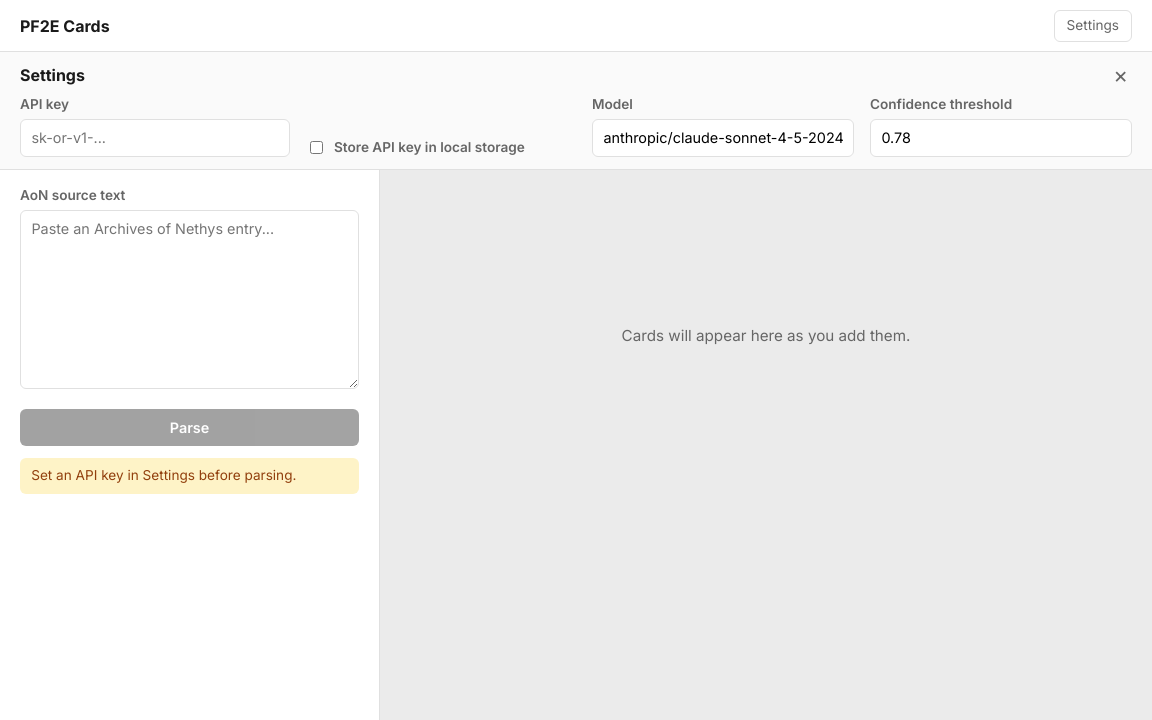
PF2E cards app › supports parse and add to page
Type "sk-test" into the password field labelled "API key" at (155, 138), box [20, 119, 290, 157]
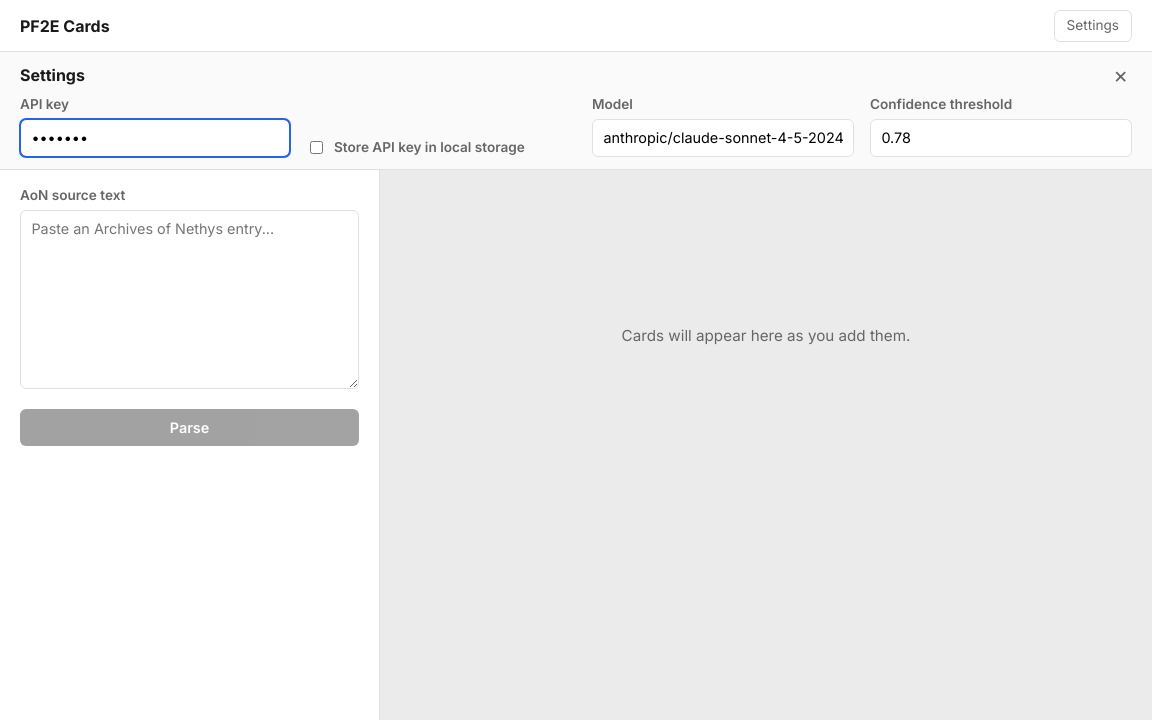
Type "Fireball source text" into the text box labelled "AoN source text" at (190, 299), box [20, 210, 359, 389]
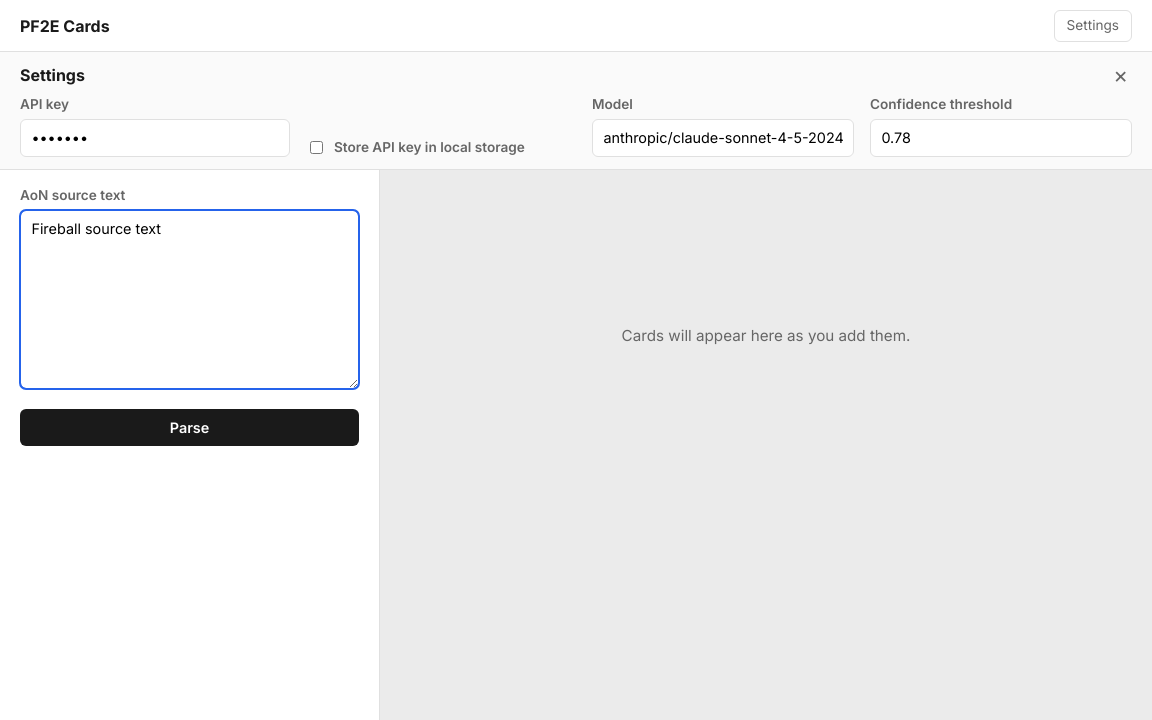
Click the button "Parse" at (190, 428), box [20, 409, 359, 446]
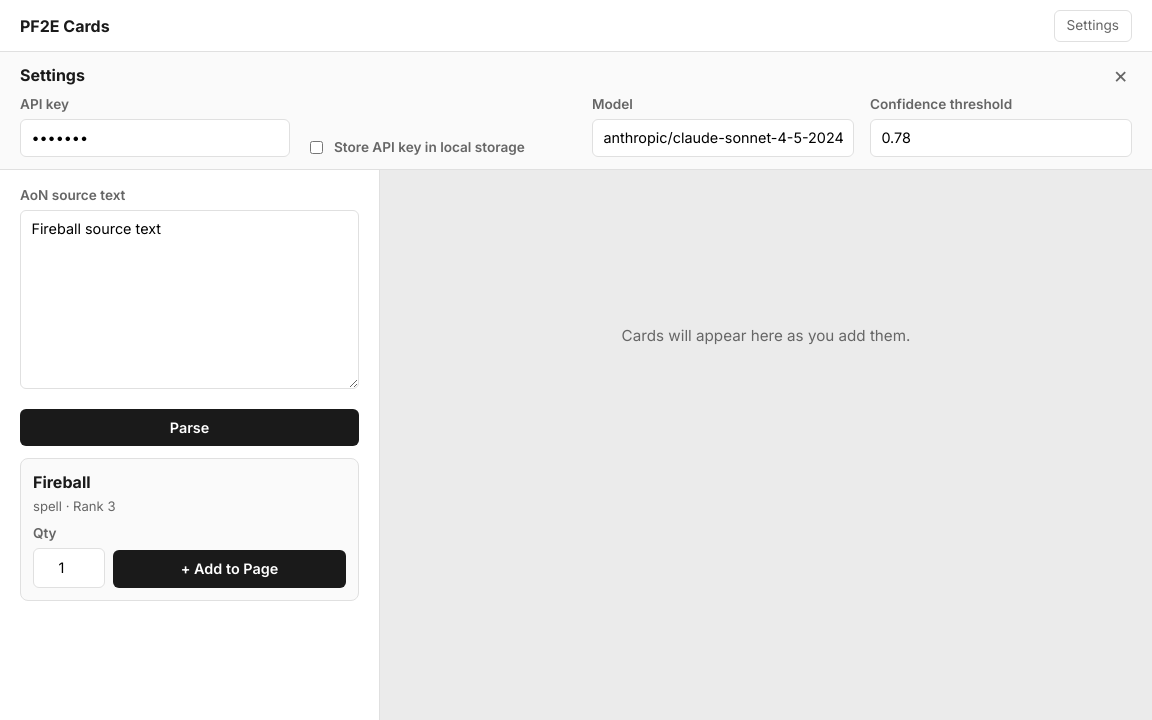
Result: the text "Fireball" is shown at [33, 472, 91, 492]
Result: the text "spell · Rank 3" is shown at [33, 498, 116, 514]
Click the button "+ Add to Page" at (230, 569), box [113, 550, 346, 588]
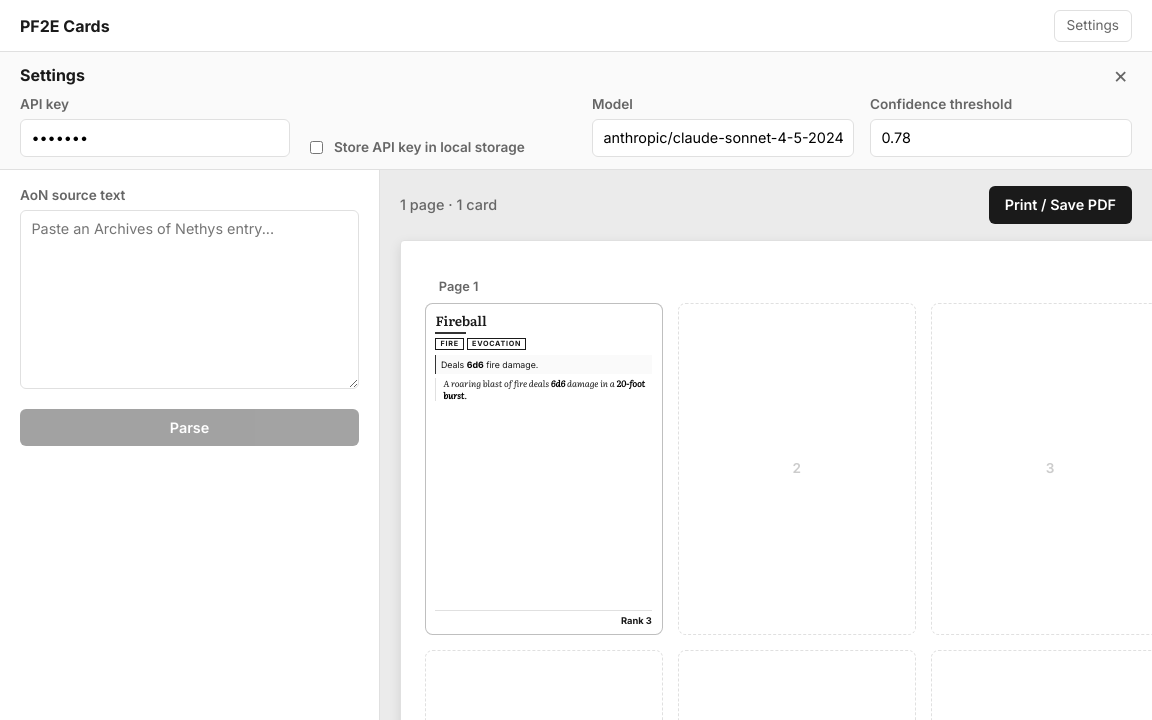
Result: the text "1 page · 1 card" is shown at [400, 195, 497, 215]
